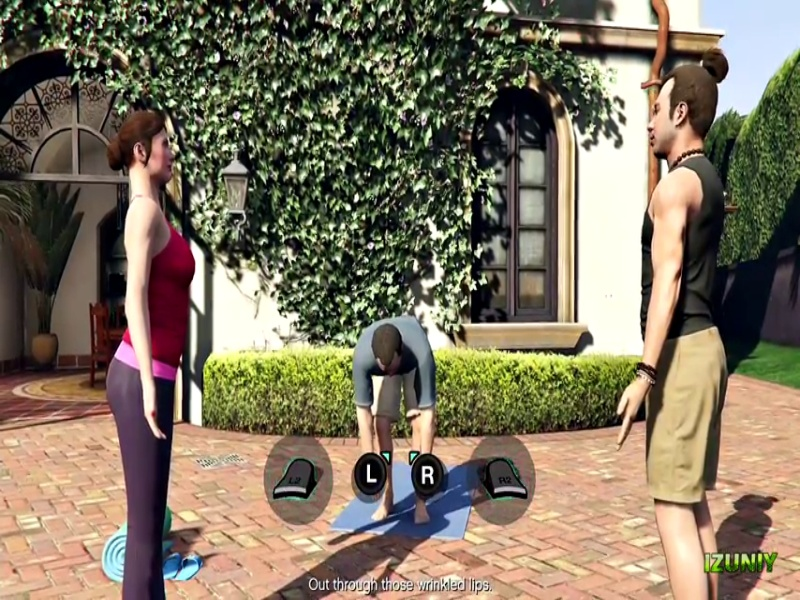human: (93, 114, 197, 600)
